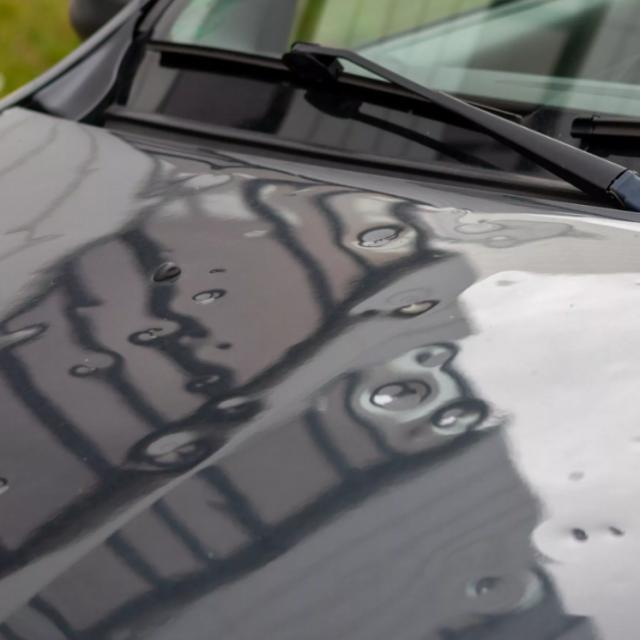dents: (346, 364, 429, 426), (149, 422, 208, 502), (462, 552, 520, 616), (0, 294, 47, 367), (67, 338, 127, 389), (125, 305, 186, 354), (215, 394, 264, 442), (355, 207, 404, 254), (552, 511, 596, 563), (402, 287, 448, 335), (196, 274, 225, 328), (606, 504, 630, 555), (598, 512, 620, 551)
